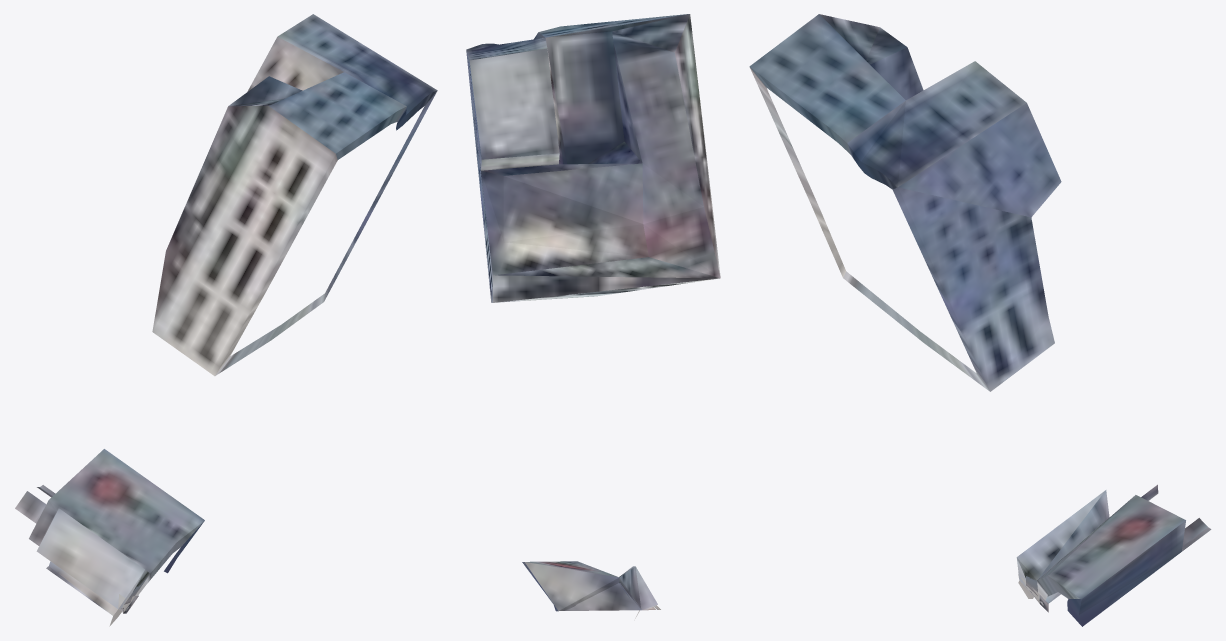
The picture shows the model from 3 angles, left to right: view 1: azimuth 30°, elevation 25°; view 2: azimuth 150°, elevation 25°; view 3: azimuth 270°, elevation 25°; orthographic projection. The views are drawn at different scales.
Bounding box in the file's own units: 36.8 × 65.39 × 44.39.
Materials: 1 (1 with a texture image).
